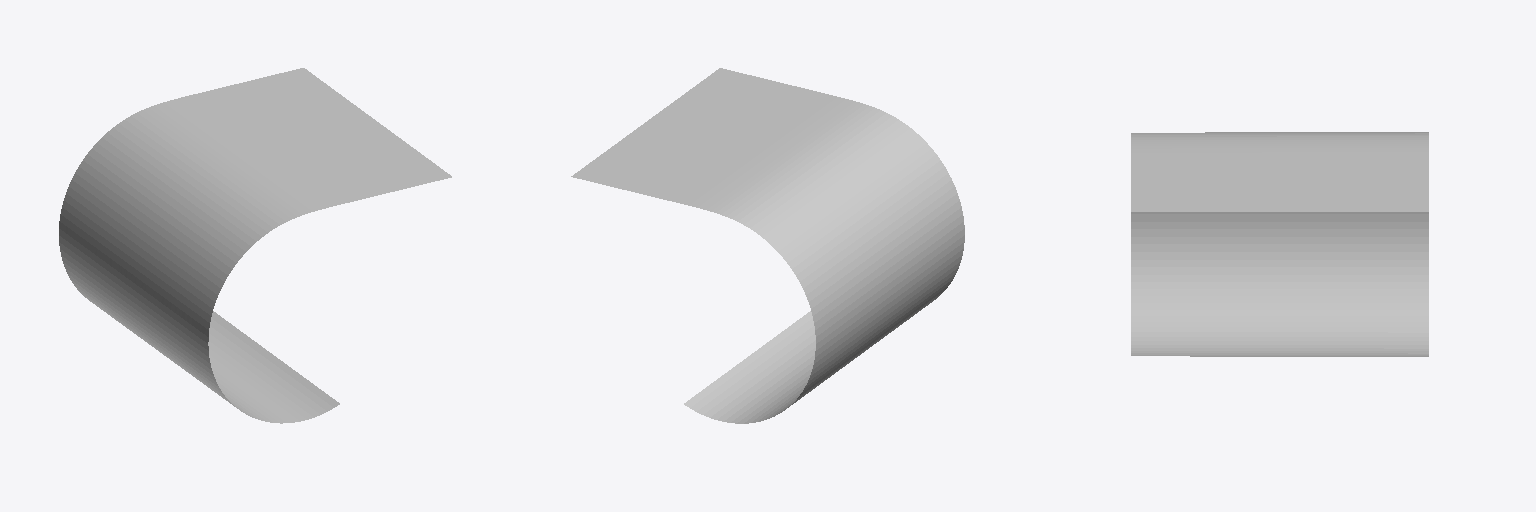
File: CurvePaper_000035.obj
The picture shows the model from 3 angles: view 1: azimuth 30°, elevation 25°; view 2: azimuth 150°, elevation 25°; view 3: azimuth 270°, elevation 25°; orthographic projection.
Visible parts, largest first — view 1: Plane; view 2: Plane; view 3: Plane.
Part boxes in pixels (left/top/right/bottom): Plane: left=59, top=68, right=451, bottom=423; Plane: left=571, top=68, right=964, bottom=423; Plane: left=1131, top=132, right=1428, bottom=356.
Bounding box in the file's own units: 2.14 × 1.74 × 2.26.